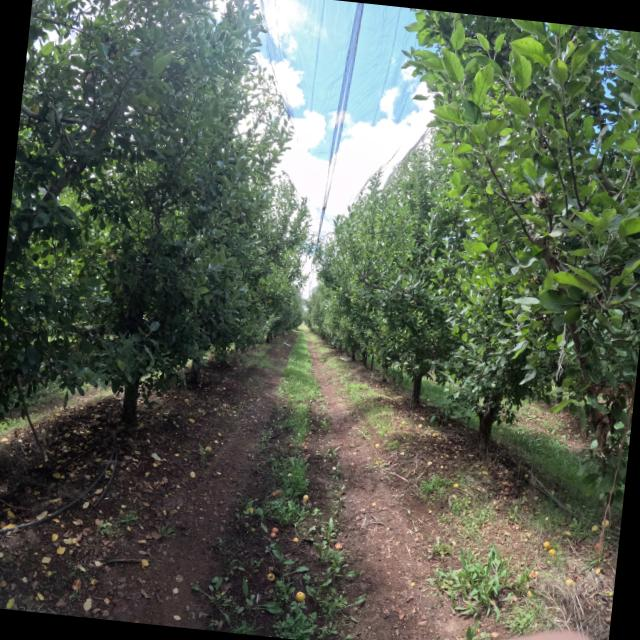-FireBlight-: (590, 408, 616, 462), (534, 189, 550, 210)
